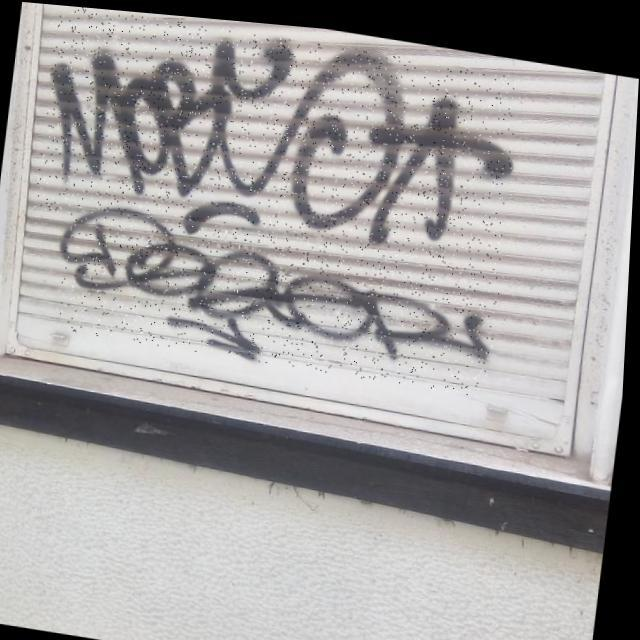-: (34, 3, 523, 274), (56, 197, 506, 389)
